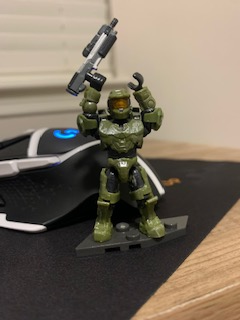chief: (76, 71, 168, 243)
rifle: (66, 17, 120, 98)
spartan: (74, 69, 166, 241)
up: (77, 70, 167, 155)
